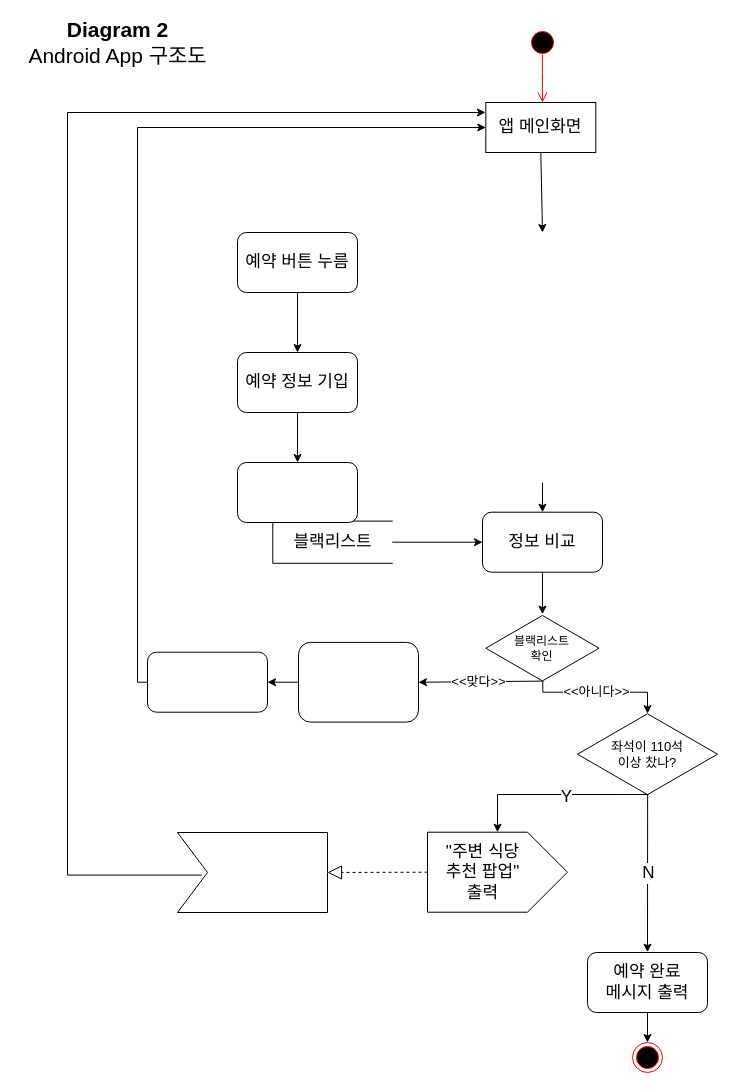
Image size: 735x1090. Some labels were removed from this diagram. Each missing label, with the box of its shape:
"예약할 수 없습니다" 출력: (298, 641, 418, 722)
개인 정보 동의: (236, 462, 358, 522)
메인으로 강제 복귀: (146, 651, 268, 712)
확인 버튼 누르면 사라짐: (176, 832, 328, 912)
